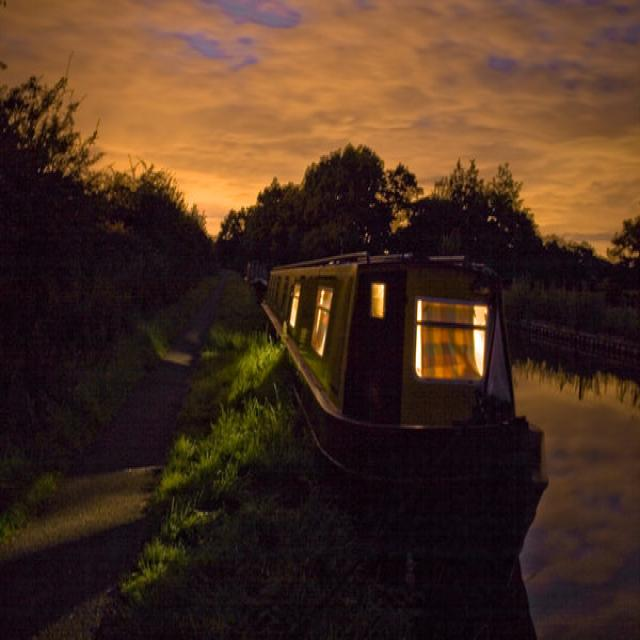Boat: (248, 190, 530, 486)
